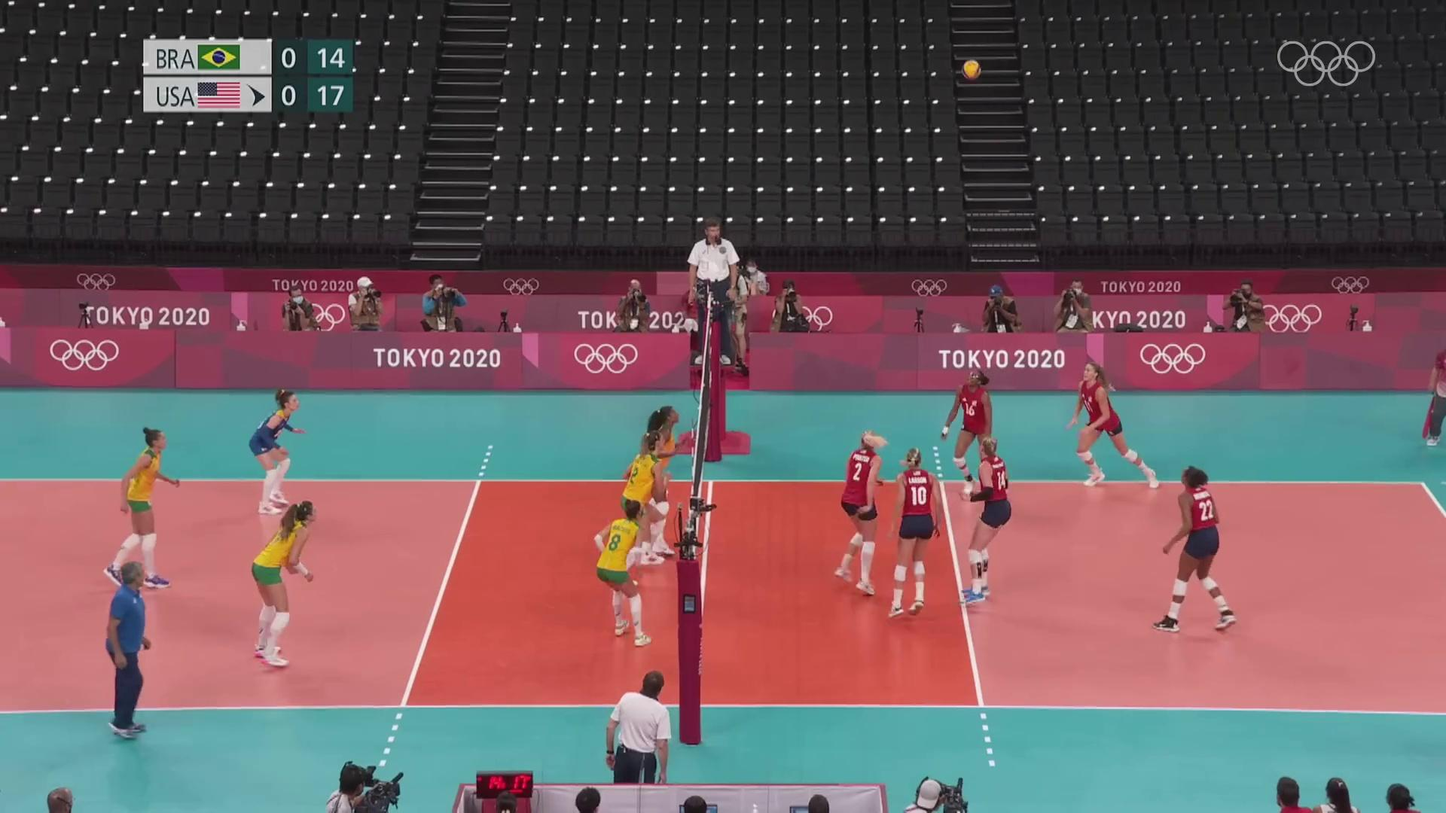player: (1152, 470, 1233, 632), (251, 504, 325, 672), (955, 435, 1020, 602), (1070, 369, 1153, 493), (114, 429, 175, 589), (829, 427, 891, 581), (593, 499, 648, 648), (889, 449, 938, 616), (945, 374, 1005, 505), (246, 393, 307, 515), (639, 401, 681, 555), (621, 429, 666, 567)
refree: (605, 671, 670, 813), (690, 217, 737, 365)
